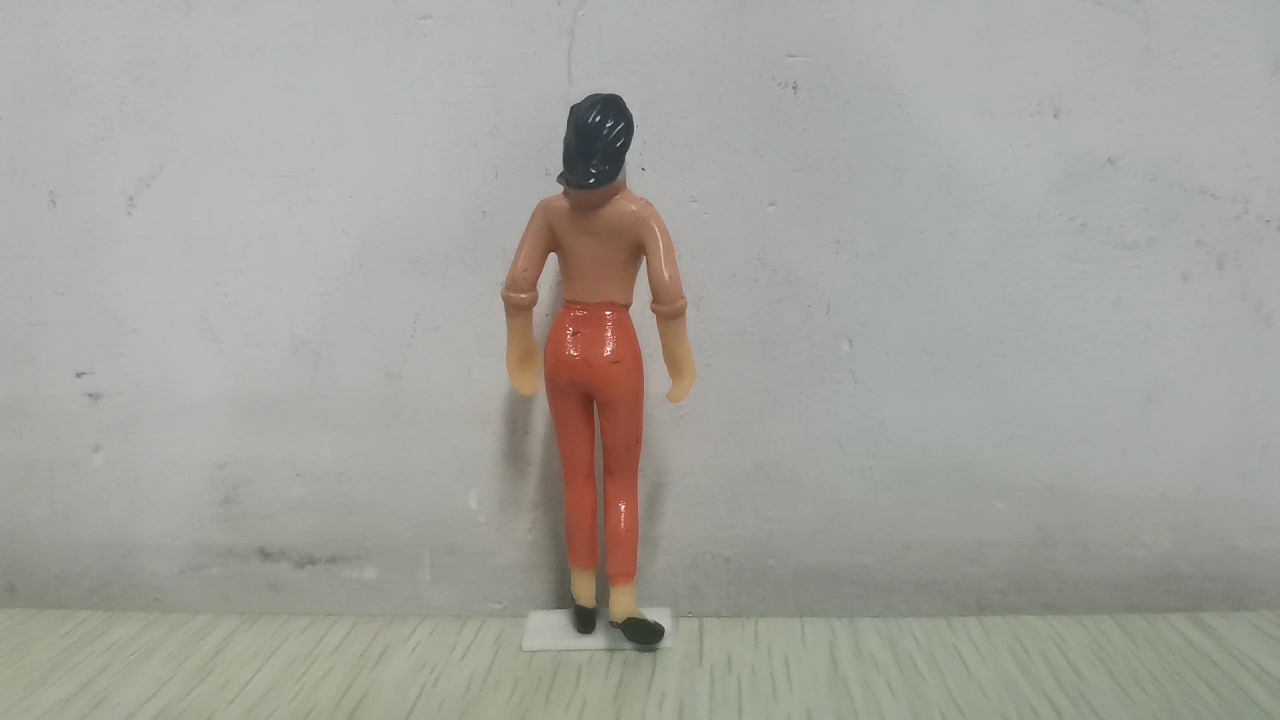person: (502, 93, 698, 645)
